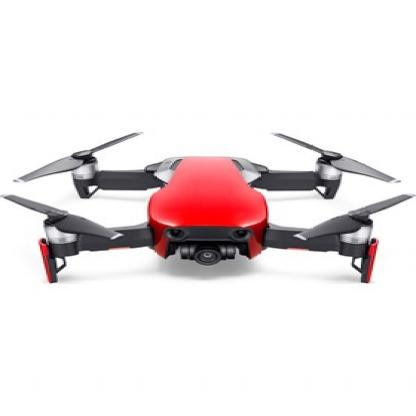drone: (13, 121, 412, 294)
